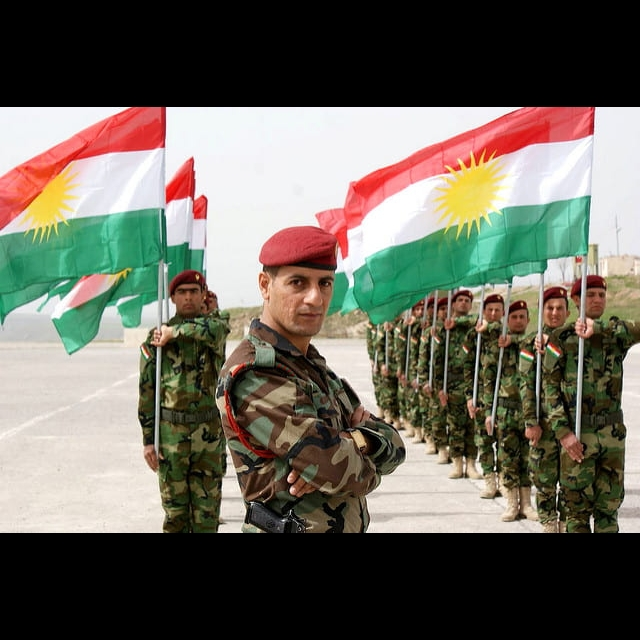IBKY: (408, 144, 552, 255), (6, 151, 120, 253)
